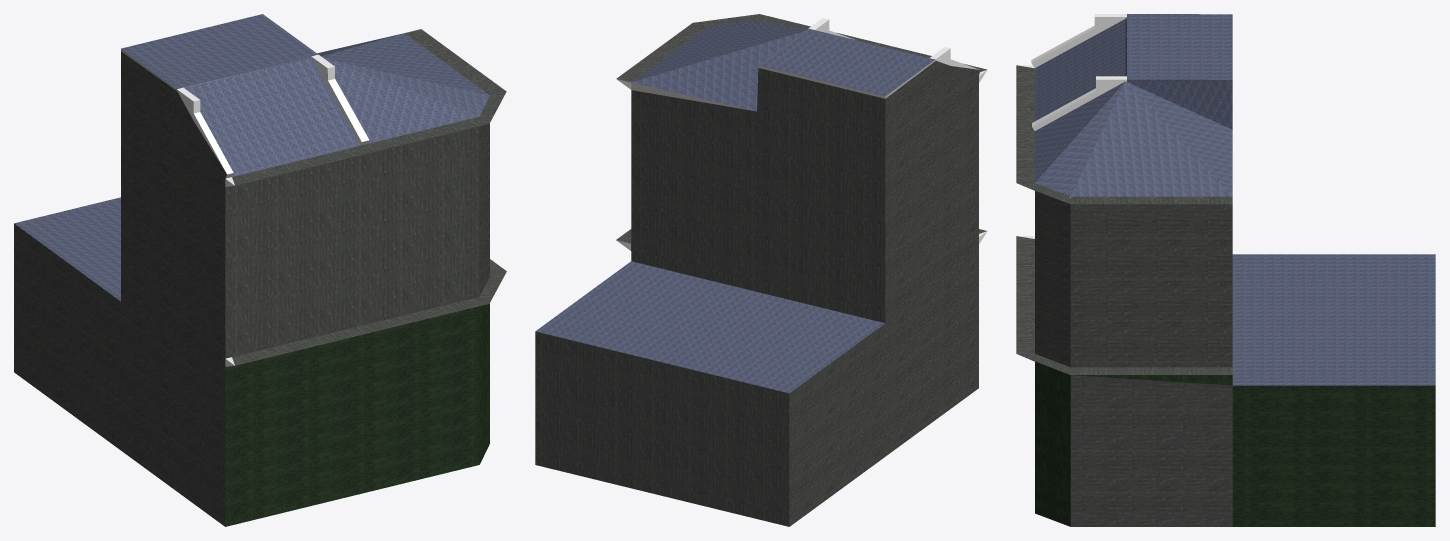
File: 174 John St S, Hamilton, ON L8N 2C6.fbx
The picture shows the model from 3 angles, left to right: view 1: azimuth 30°, elevation 25°; view 2: azimuth 150°, elevation 25°; view 3: azimuth 270°, elevation 25°; orthographic projection. The views are drawn at different scales.
Parts seen in each view (by area): view 1: instance_0.004; view 2: instance_0.004; view 3: instance_0.004.
Part boxes in pixels (left/top/right/bottom): instance_0.004: left=14, top=14, right=506, bottom=526; instance_0.004: left=535, top=14, right=987, bottom=526; instance_0.004: left=1016, top=14, right=1435, bottom=526.
Size of the model in its own units: 1147 by 1467 by 1462.
6 materials, 4 textured.
